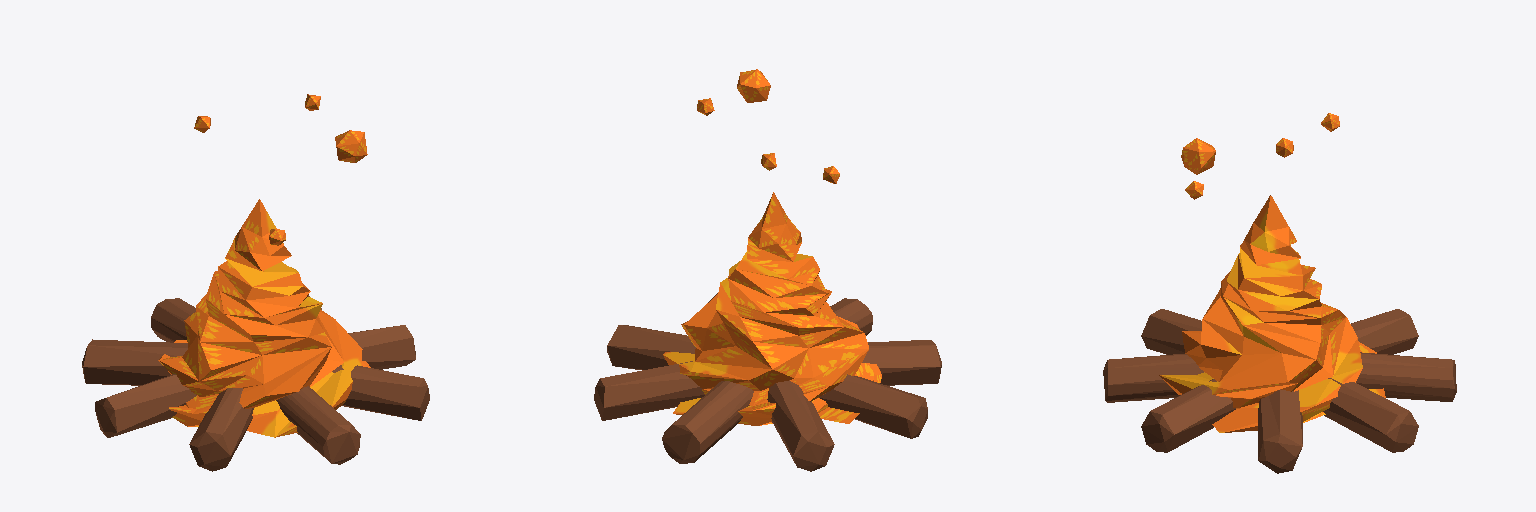
The picture shows the model from 3 angles: view 1: azimuth 30°, elevation 25°; view 2: azimuth 150°, elevation 25°; view 3: azimuth 270°, elevation 25°; orthographic projection.
Visible parts, largest first — view 1: Cone, Cylinder.157, Icosphere; view 2: Cone, Cylinder.157, Icosphere; view 3: Cone, Cylinder.157, Icosphere.
Part boxes in pixels (left/top/right/bottom): Cone: left=158, top=199, right=370, bottom=437; Cylinder.157: left=82, top=295, right=429, bottom=471; Icosphere: left=194, top=94, right=367, bottom=245; Cone: left=663, top=192, right=881, bottom=425; Cylinder.157: left=594, top=293, right=941, bottom=471; Icosphere: left=697, top=69, right=839, bottom=183; Cone: left=1159, top=195, right=1385, bottom=432; Cylinder.157: left=1103, top=309, right=1456, bottom=473; Icosphere: left=1181, top=113, right=1339, bottom=199.
Size of the model in its own units: 2.51 by 2.28 by 2.52.
Materials: 3 (2 with a texture image).